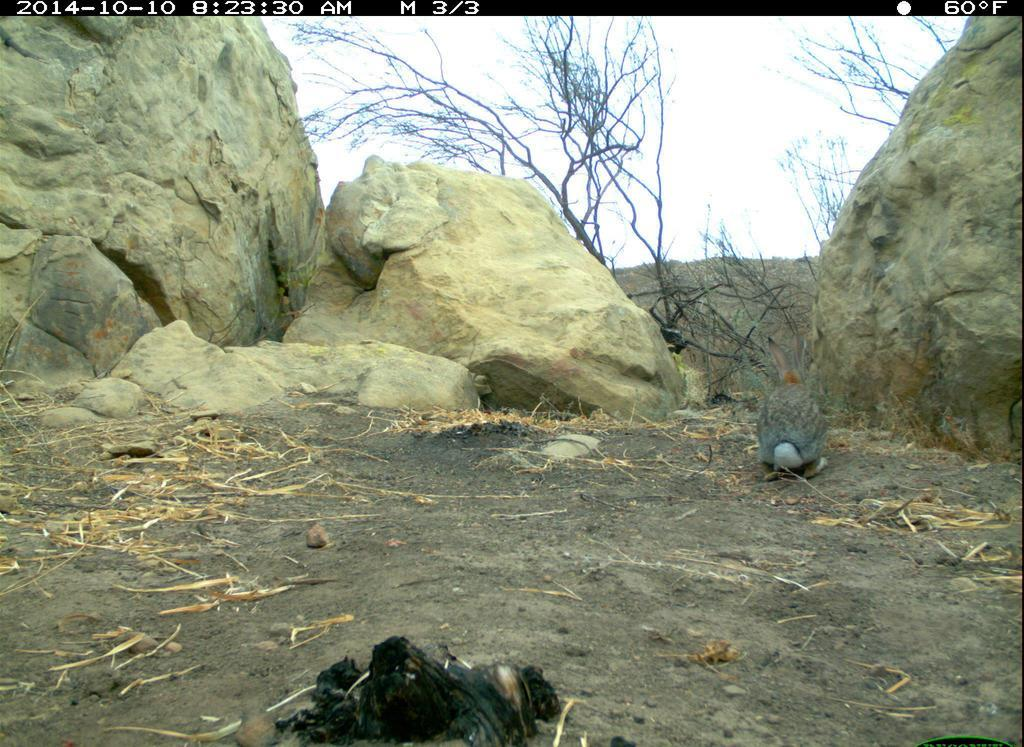rabbit: (752, 328, 834, 486)
